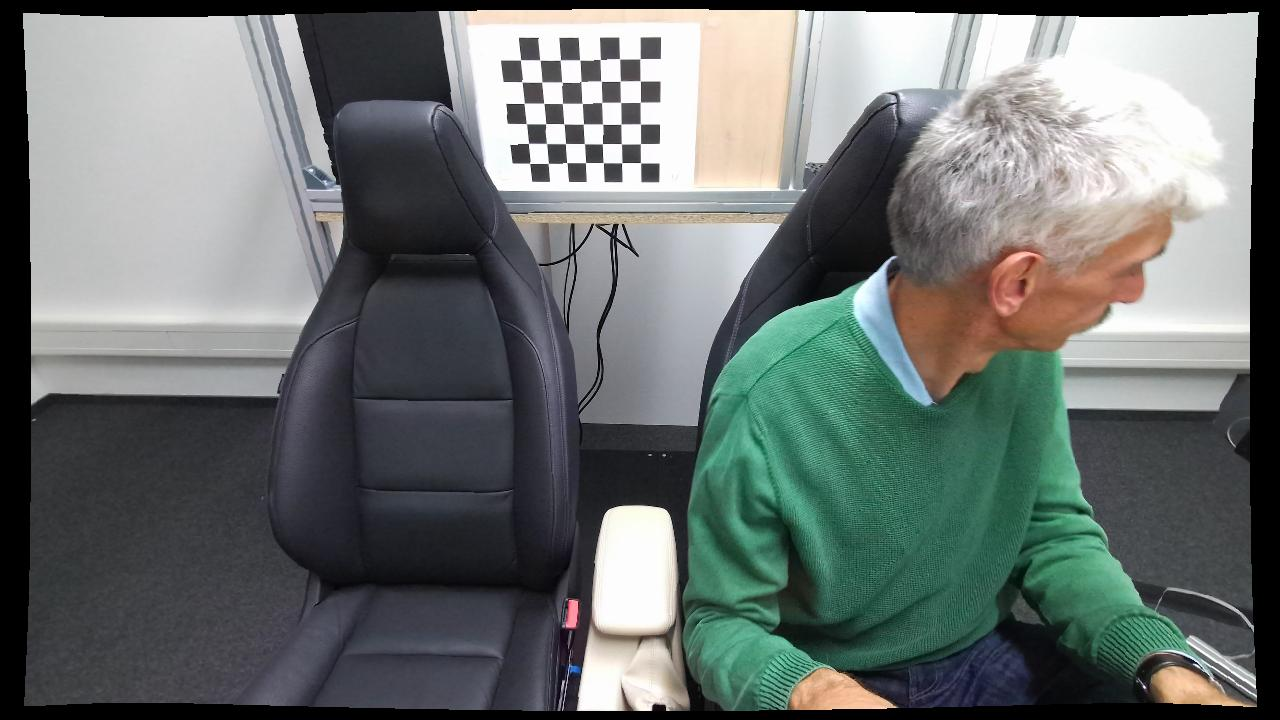Distracted: (684, 63, 1233, 711)
